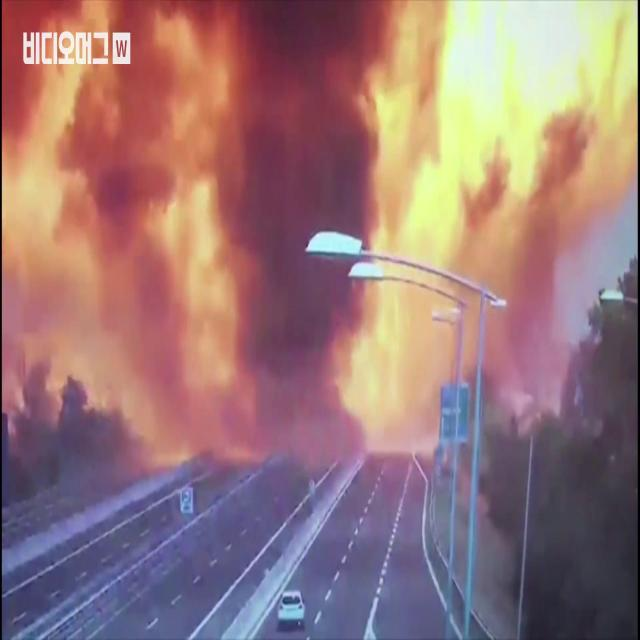explosion: (3, 0, 640, 507)
